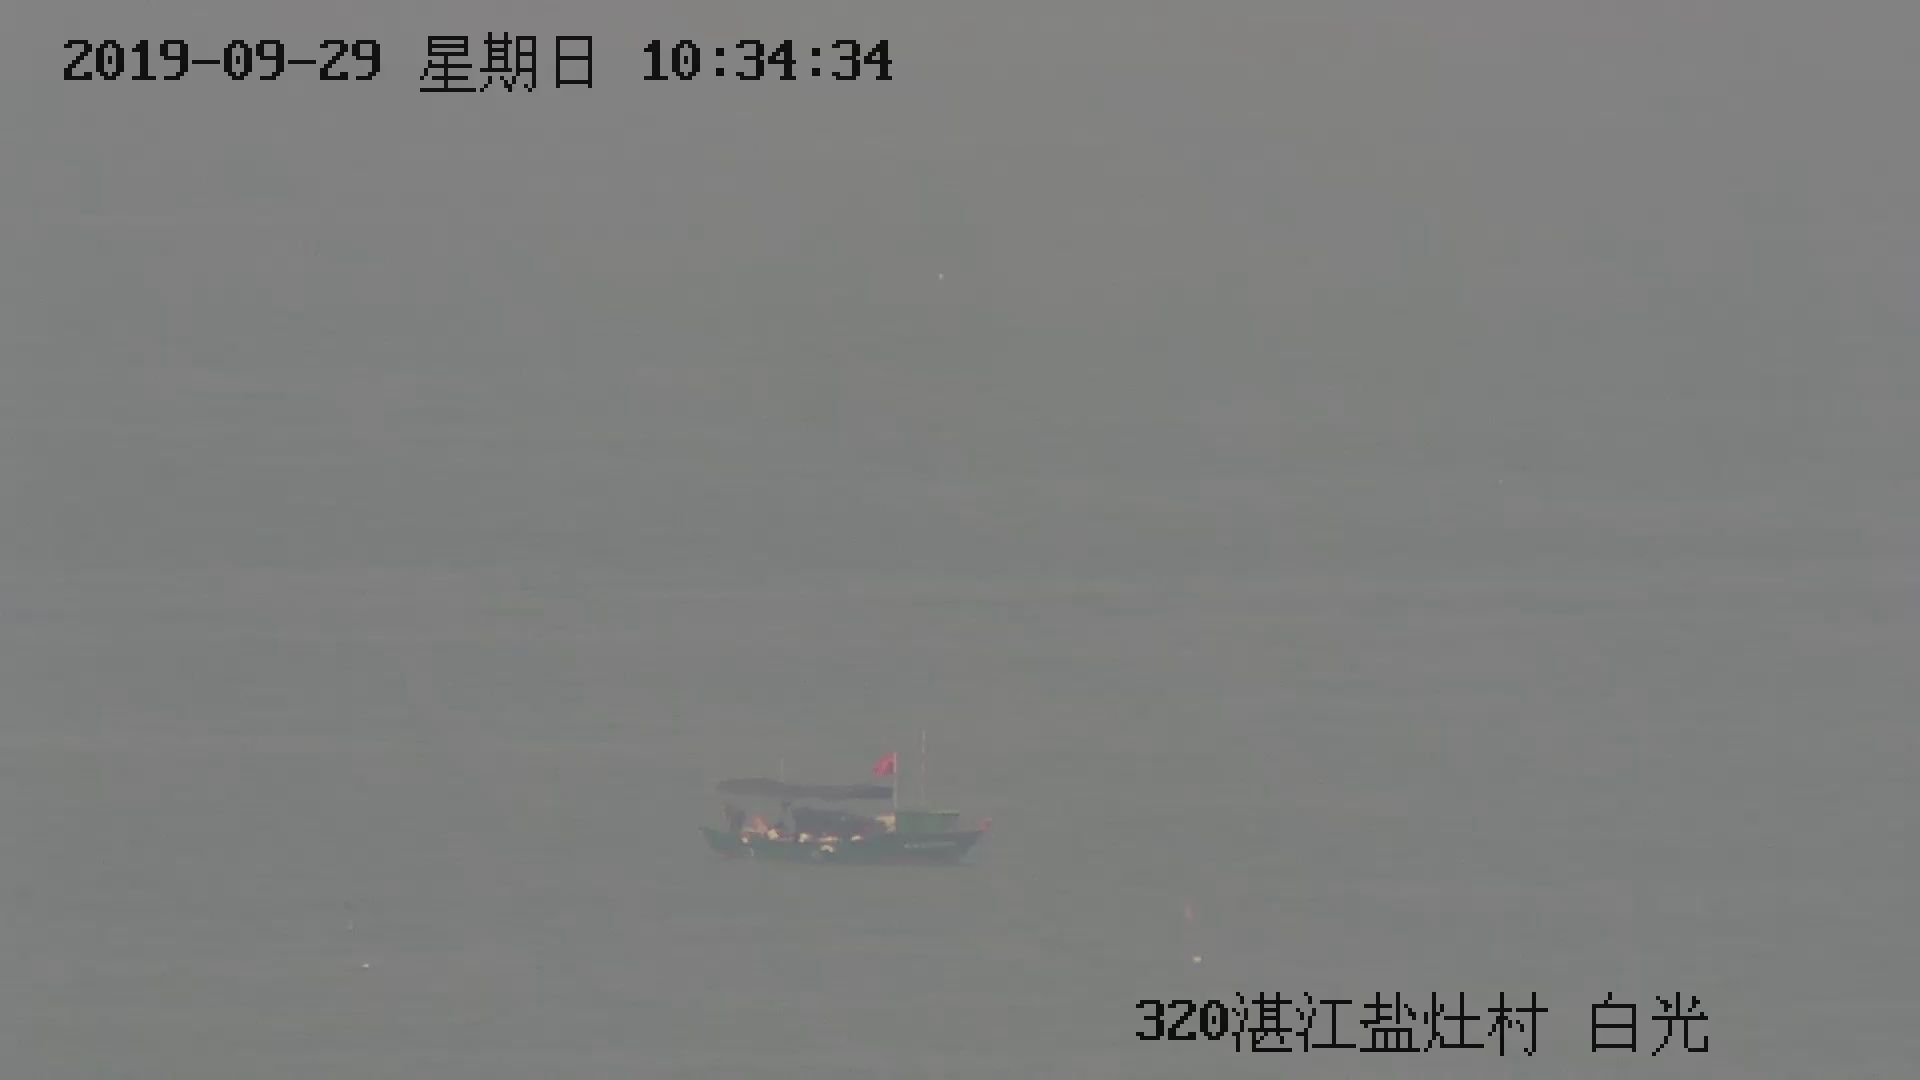ship: (700, 742, 994, 876)
